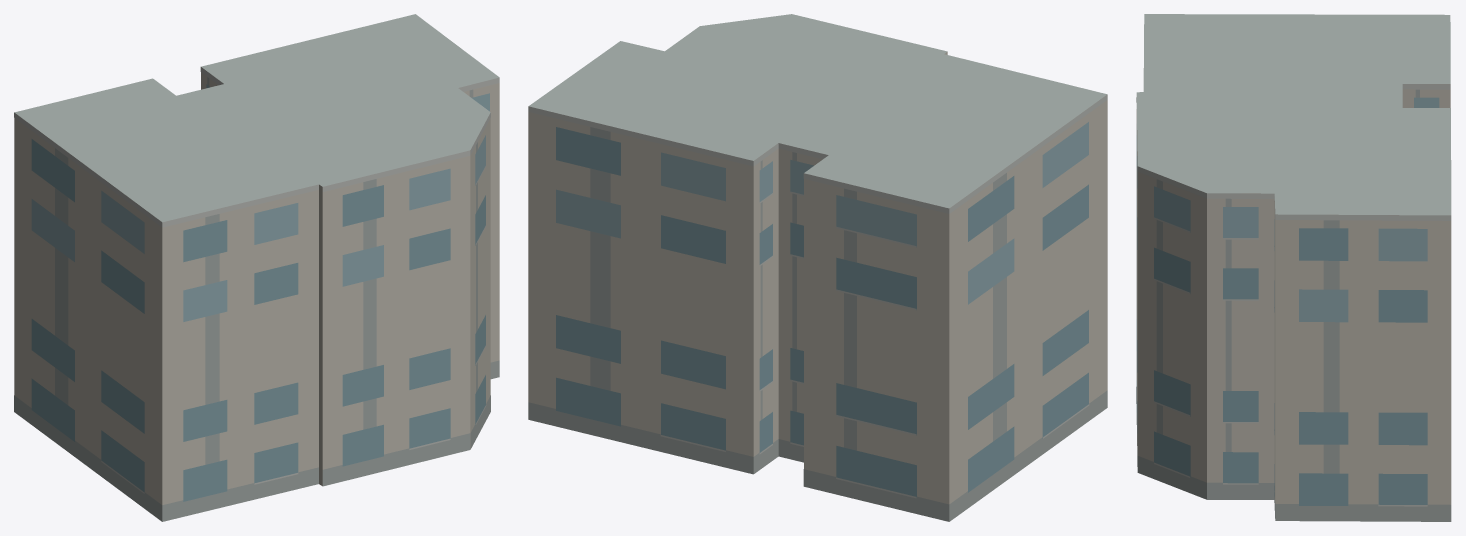
File: survey-upis-32580876.glb
3 renders of one model, left to right at view 1: azimuth 30°, elevation 25°; view 2: azimuth 150°, elevation 25°; view 3: azimuth 270°, elevation 25°, orthographic. The views are drawn at different scales.
Visible parts, largest first — view 1: survey-upis-32580876.tmp; view 2: survey-upis-32580876.tmp; view 3: survey-upis-32580876.tmp.
Boxes of the visible parts, box(x1,y1,x2,y2) form: survey-upis-32580876.tmp: box(14, 14, 499, 521); survey-upis-32580876.tmp: box(528, 14, 1107, 521); survey-upis-32580876.tmp: box(1136, 14, 1451, 521).
Size of the model in its own units: 19.32 by 13.7 by 12.77.
